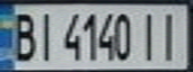0: (115, 9, 136, 62)
1: (78, 8, 100, 62)
4: (60, 8, 81, 62), (97, 8, 118, 61)
B: (6, 8, 39, 62)
I: (154, 8, 187, 62), (136, 9, 163, 61), (33, 8, 57, 62)
